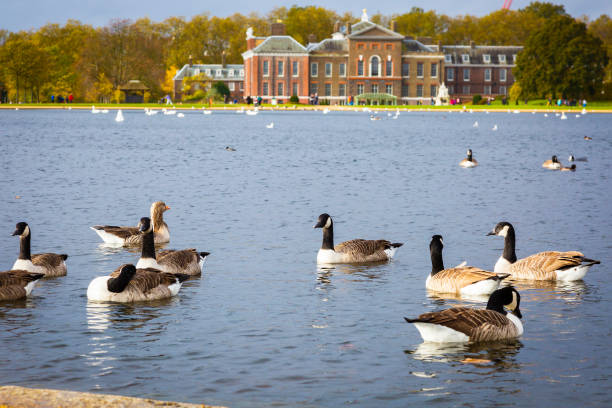goose: (484, 219, 605, 293), (399, 284, 524, 346), (310, 211, 407, 274), (423, 233, 508, 303), (133, 215, 213, 282), (86, 262, 190, 304), (7, 221, 70, 279), (1, 270, 45, 308), (457, 148, 480, 169), (540, 154, 561, 172)
